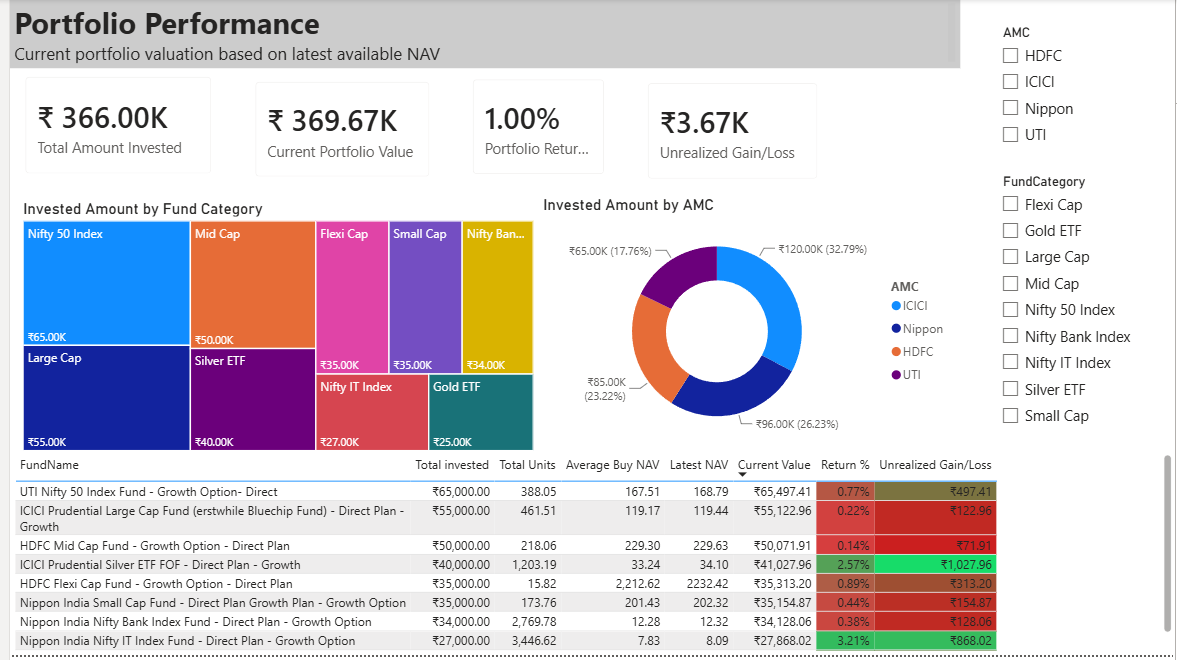

This screenshot's page, from the dashboard's own definition file:
{"tool":"powerbi","page":{"name":"Page 2","canvas":[1280,720],"ordinal":1},"visuals":[{"type":"cardVisual","fields":{"Data":["Sum(Transactions.Amount)"]},"box":[0,68.6,238.6,140],"z":0},{"type":"cardVisual","fields":{"Data":["Measure.Portfolio Return %"]},"box":[491,71.9,178.6,138.6],"z":1000},{"type":"donutChart","title":"Invested Amount by AMC","fields":{"Category":["Mutual Funds.AMC"],"Y":["Sum(Transactions.Amount)"]},"box":[580,215.7,458.6,280],"z":2000},{"type":"treemap","title":"Invested Amount by Fund Category","fields":{"Group":["Mutual Funds.FundCategory"],"Values":["Sum(Transactions.Amount)"]},"box":[10,220,570,281.4],"z":3000},{"type":"cardVisual","fields":{"Data":["Measure.Current Portfolio Value"]},"box":[251.9,73.8,225.7,138.6],"z":4000},{"type":"cardVisual","fields":{"Data":["Measure.Unrealized Gain/Loss"]},"box":[683.4,75.5,220.9,140],"z":5000},{"type":"tableEx","fields":{"Values":["Mutual Funds.FundName","Sum(Transactions.Amount)","Sum(Transactions.Units)","Measure.Average Buy NAV","Measure.Latest NAV","Measure.Current Portfolio Value","Measure.Portfolio Return %","Measure.Unrealized Gain/Loss"]},"box":[0,495.4,1280.3,225],"z":6000},{"type":"slicer","fields":{"Values":["Mutual Funds.AMC"]},"box":[1077.1,22.9,200,148.6],"z":7000},{"type":"slicer","fields":{"Values":["Mutual Funds.FundCategory"]},"box":[1077.1,187.1,200,294.3],"z":8000},{"type":"textbox","box":[0,0,1042.9,75.7],"z":9000}]}

Visuals, with their boxes in screenshot pixels (x1, y1, x2, y2), scaled from the page's 1280x720 canvas onto the 1177x660 screenshot:
cardVisual - Sum(Transactions.Amount): <region>0, 63, 219, 191</region>
cardVisual - Measure.Portfolio Return %: <region>451, 66, 616, 193</region>
"Invested Amount by AMC" donutChart: <region>533, 198, 955, 454</region>
"Invested Amount by Fund Category" treemap: <region>9, 202, 533, 460</region>
cardVisual - Measure.Current Portfolio Value: <region>232, 68, 439, 195</region>
cardVisual - Measure.Unrealized Gain/Loss: <region>628, 69, 832, 198</region>
tableEx - Mutual Funds.FundName x Sum(Transactions.Amount): <region>0, 454, 1176, 659</region>
slicer - Mutual Funds.AMC: <region>990, 21, 1174, 157</region>
slicer - Mutual Funds.FundCategory: <region>990, 172, 1174, 441</region>
textbox: <region>0, 0, 959, 69</region>
